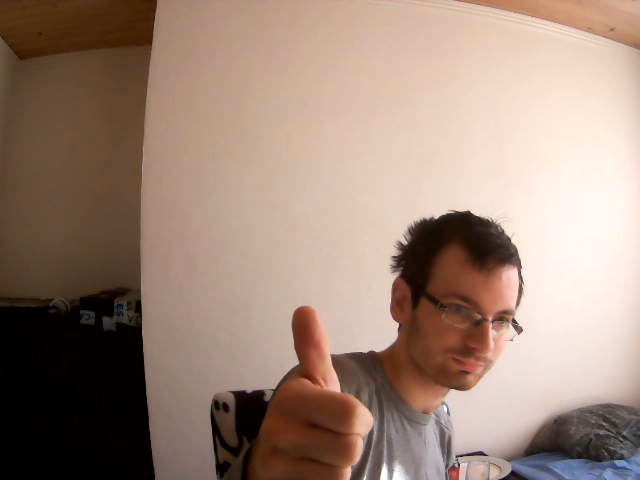nice: (244, 307, 378, 480)
